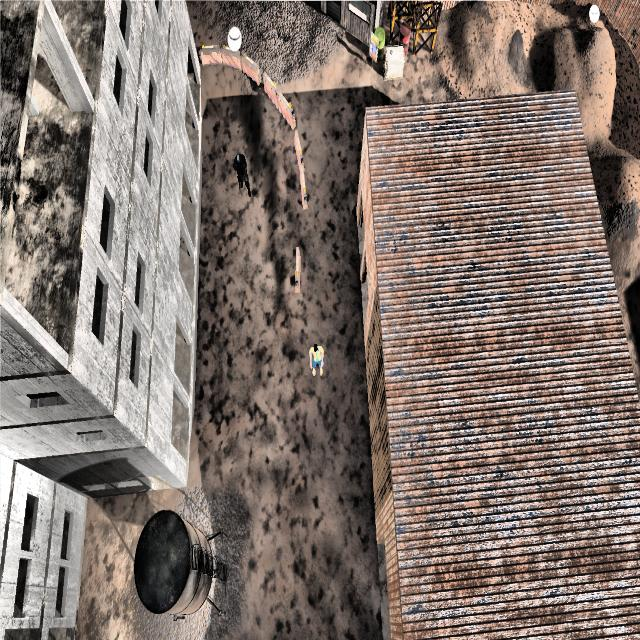bad: (230, 140, 254, 204)
good: (306, 337, 327, 386)
